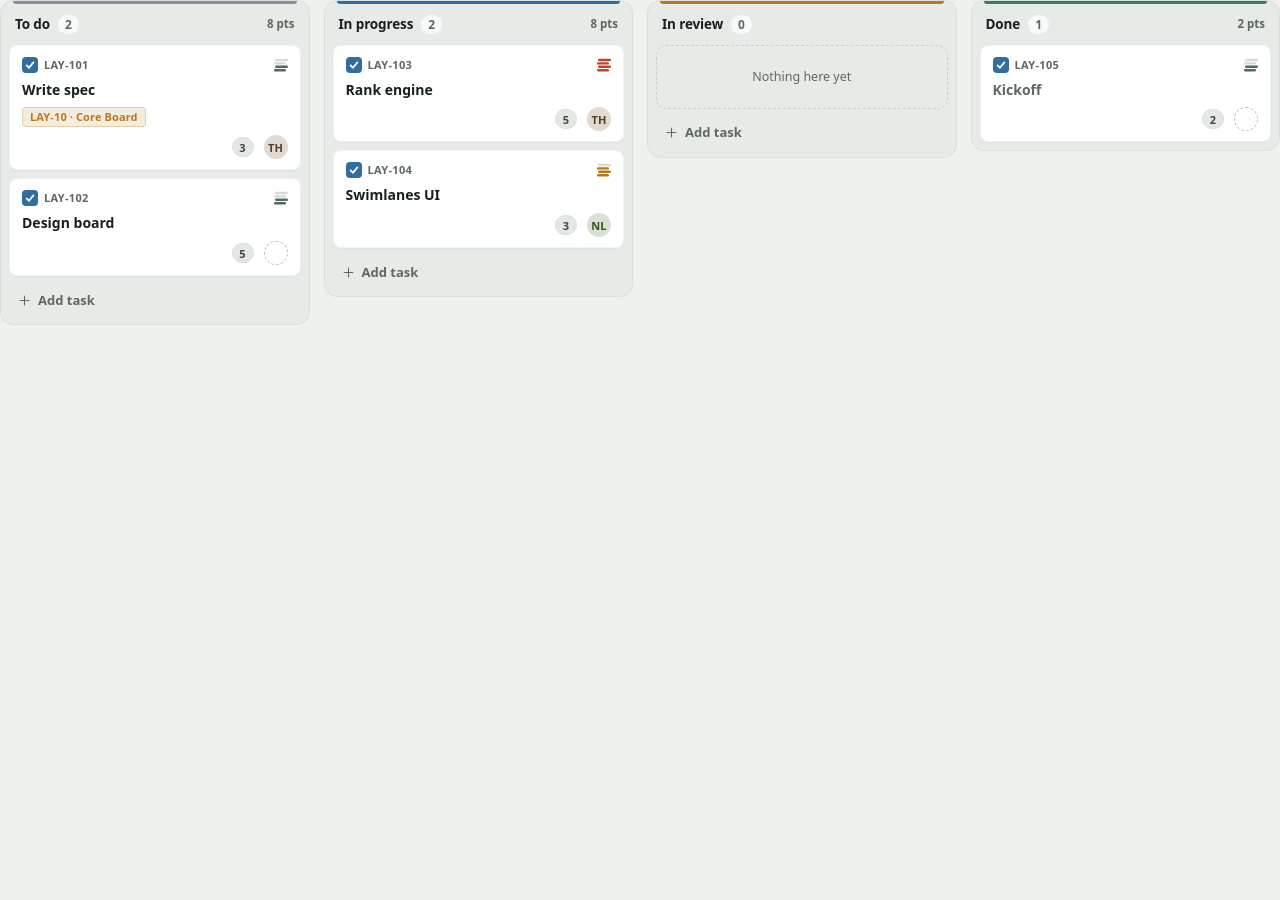
BoardView › quick-adds a task into the column
Click the button "Add task" below "In progress".
click(390, 272)  # box [332,256,624,288]
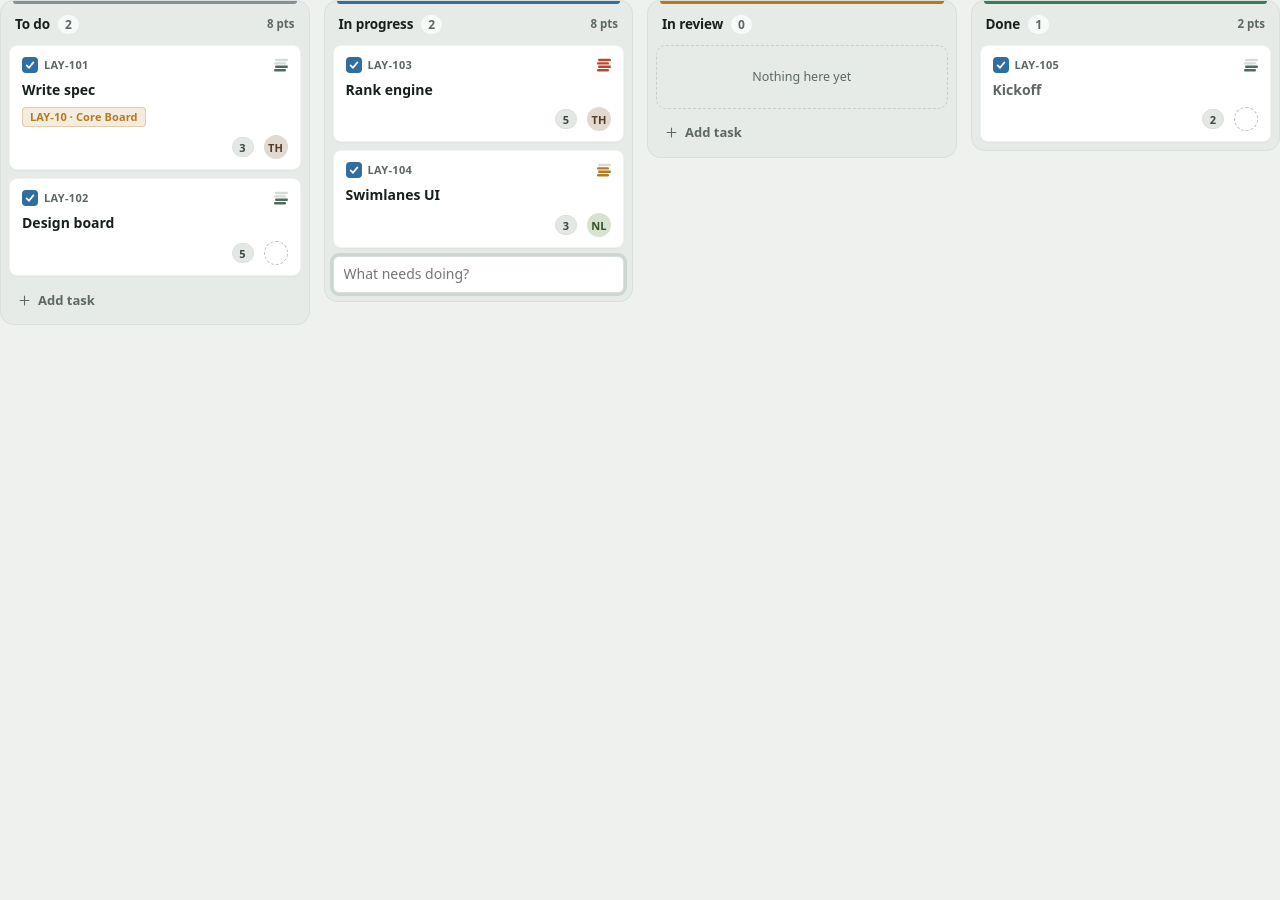
Type "Wire up drag and drop" into the field named "New task in In progress".
click(478, 274); type("Wire up drag and drop")  # box [332,256,624,293]
Then press Enter
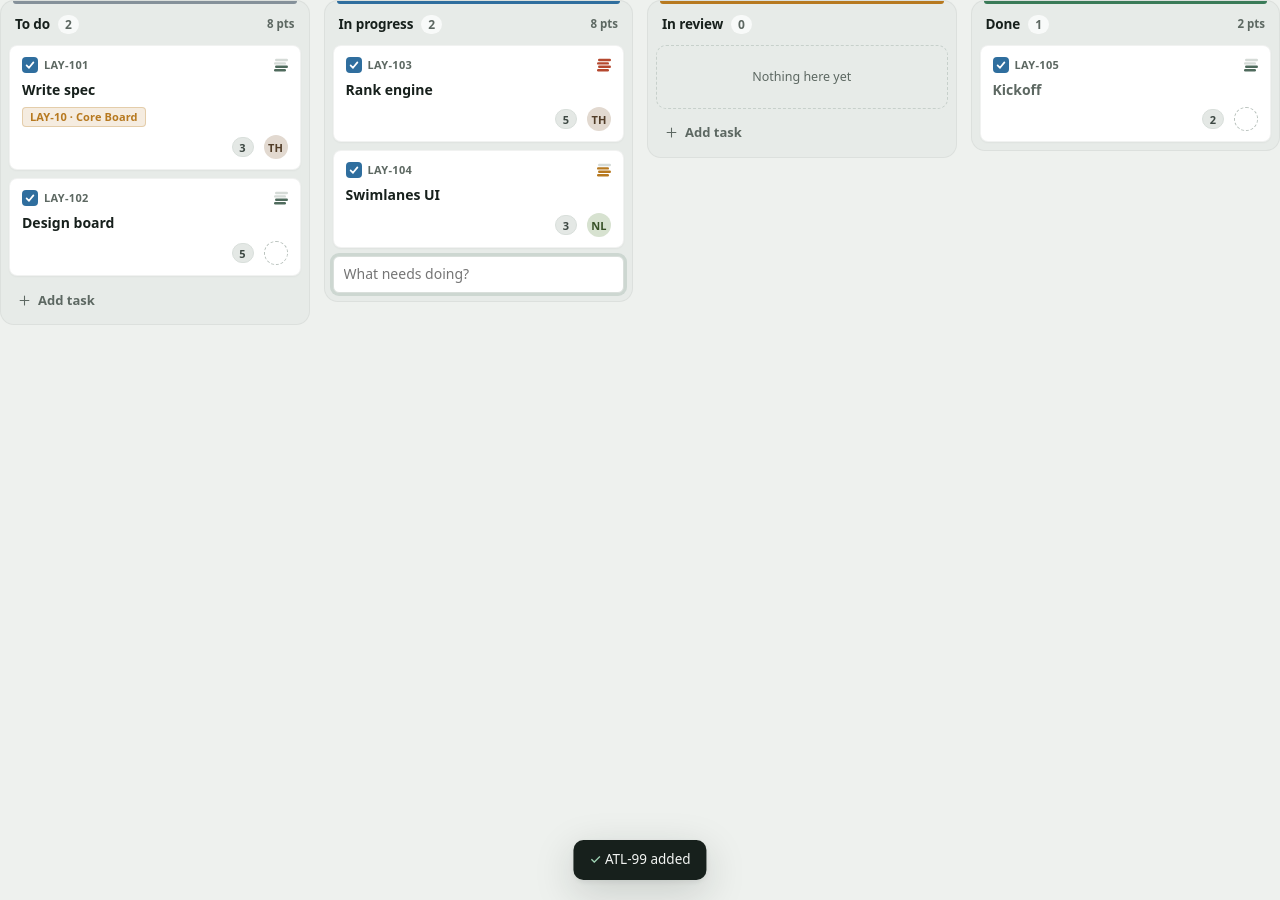
Expected: the text "ATL-99 added" is shown, [573,840,706,880]
